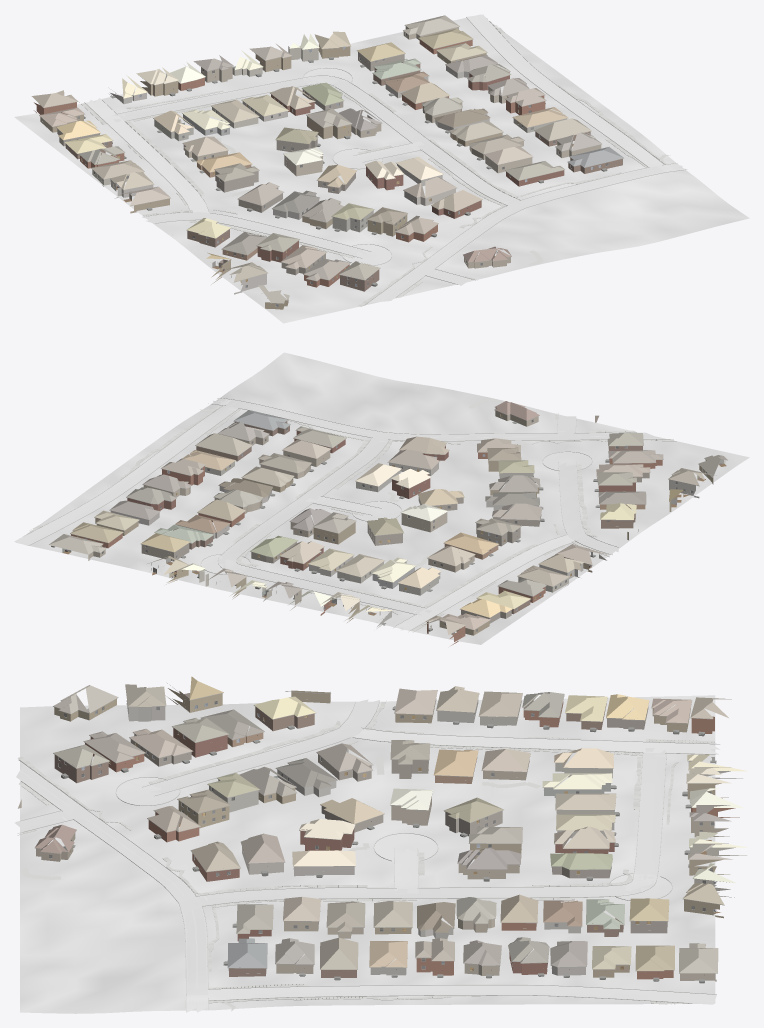
3 views of the same model, one above another, from view 1: azimuth 30°, elevation 25°; view 2: azimuth 150°, elevation 25°; view 3: azimuth 270°, elevation 25° (orthographic). The views are drawn at different scales.
Parts seen in each view (by area): view 1: ground, roof, concrete, wall, detail, walk, wall_stucco, curb, asphalt, wall_stone, glass; view 2: ground, roof, concrete, wall, detail, walk, curb, wall_stucco, asphalt, wall_stone, room; view 3: ground, roof, concrete, wall, walk, curb, asphalt, detail, wall_stucco, wall_stone, glass, mark_w.
Part boxes in pixels (box(x1,y1,x2,y2)): ground: box(14, 14, 749, 323); roof: box(31, 15, 623, 303); concrete: box(87, 14, 663, 285); wall: box(34, 39, 622, 309); detail: box(39, 25, 623, 306); walk: box(81, 25, 670, 306); wall_stucco: box(92, 26, 566, 232); curb: box(79, 17, 685, 305); asphalt: box(368, 164, 687, 302); wall_stone: box(109, 66, 489, 294); glass: box(42, 33, 608, 287); ground: box(15, 352, 749, 644); roof: box(49, 401, 727, 634); concrete: box(14, 405, 618, 630); wall: box(71, 408, 713, 645); detail: box(51, 406, 725, 632); walk: box(29, 398, 673, 631); curb: box(23, 398, 676, 632); wall_stucco: box(88, 450, 568, 601); asphalt: box(213, 398, 660, 440); wall_stone: box(110, 470, 699, 628); room: box(62, 453, 726, 635); ground: box(20, 695, 715, 1013); roof: box(35, 676, 747, 973); concrete: box(14, 699, 720, 1004); wall: box(18, 688, 739, 979); walk: box(17, 702, 714, 1011); curb: box(17, 701, 719, 1011); asphalt: box(16, 764, 208, 1012); detail: box(35, 683, 730, 983); wall_stucco: box(209, 700, 746, 981); wall_stone: box(126, 699, 742, 975); glass: box(49, 701, 715, 968); mark_w: box(20, 729, 664, 1010).
Size of the model in its own units: 262 by 17.54 by 265.
